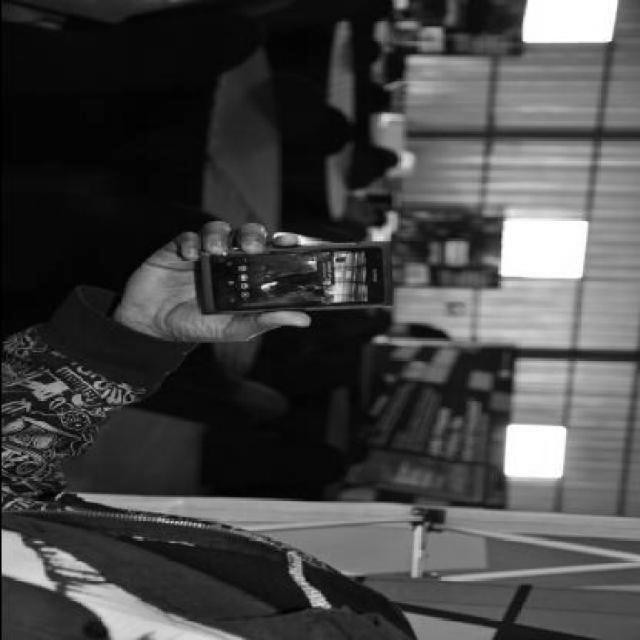fake: (194, 240, 391, 314)
